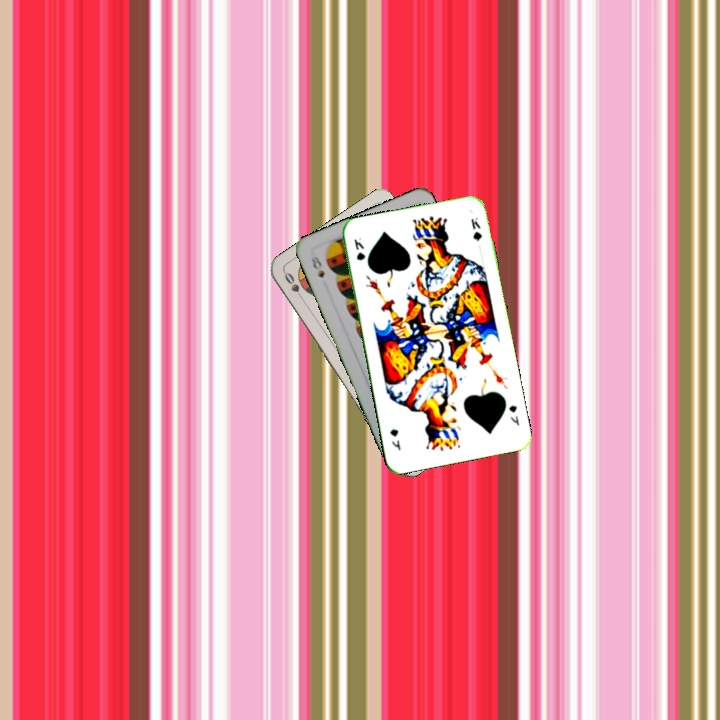GK: (350, 234, 368, 263), (505, 401, 522, 428)
S8: (307, 251, 327, 281)
SO: (280, 268, 308, 304)
